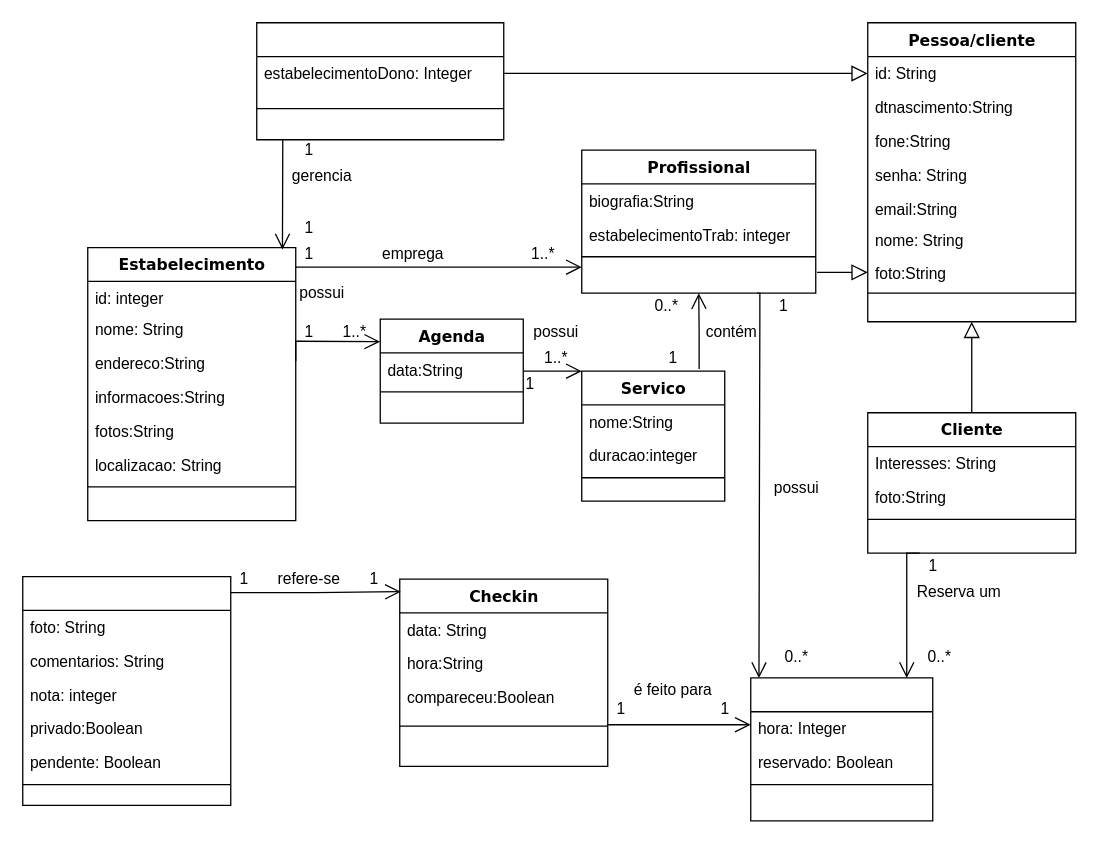
Image size: 1099x844. Some labels were removed from this diagram. The shapes that lost their labels are listed below. From the top down, each one's box as (x1, y1, x2, y2) in pixels, then its label:
(255, 21, 504, 140): Administrador
(21, 575, 231, 805): Avaliacao
(749, 677, 933, 821): Horario
